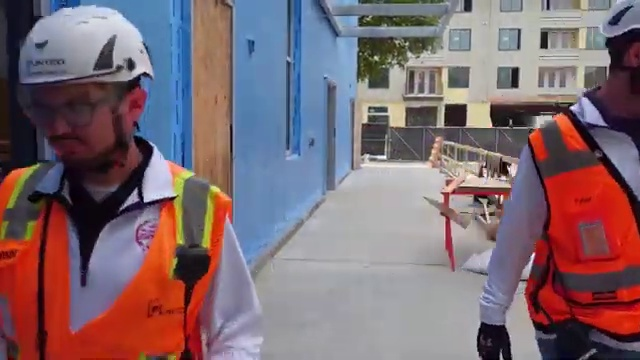helmet: (14, 4, 168, 100)
